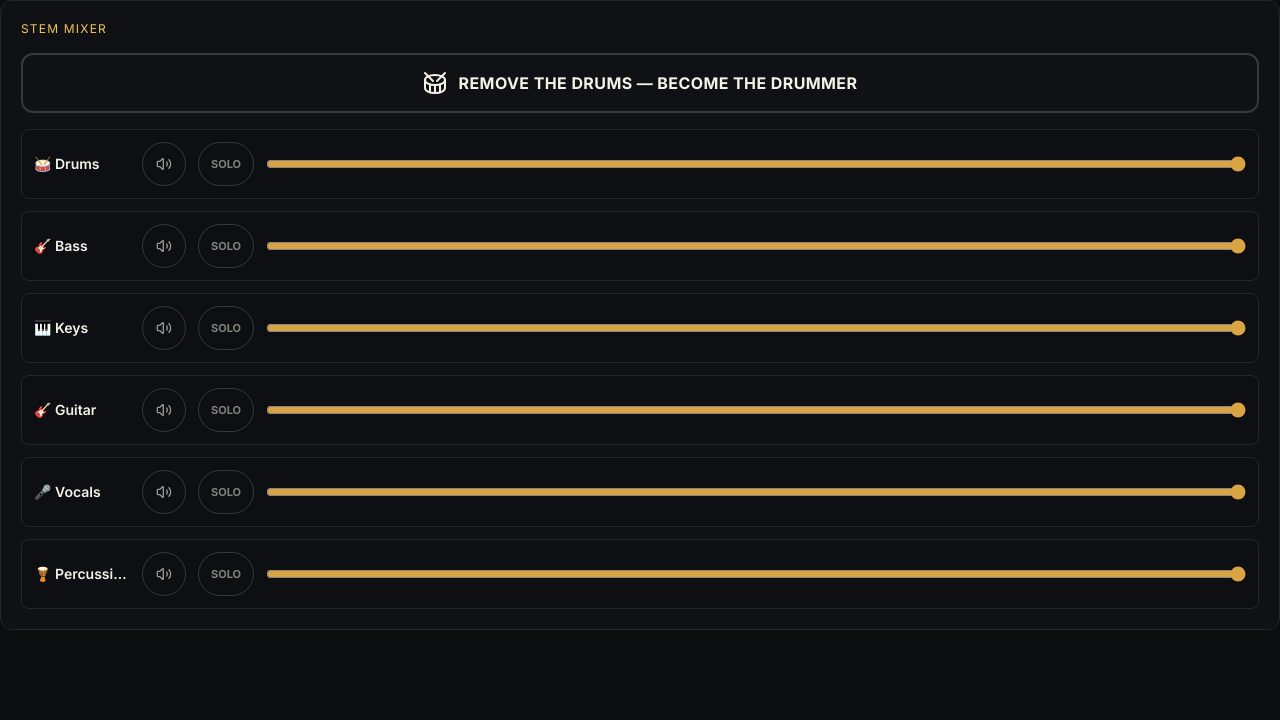
StemMixer › muting Drums via the primary action flips it to 'Drums Removed'
Click the button "Remove the Drums — Become the Drummer": (640, 83) [21,53,1259,113]
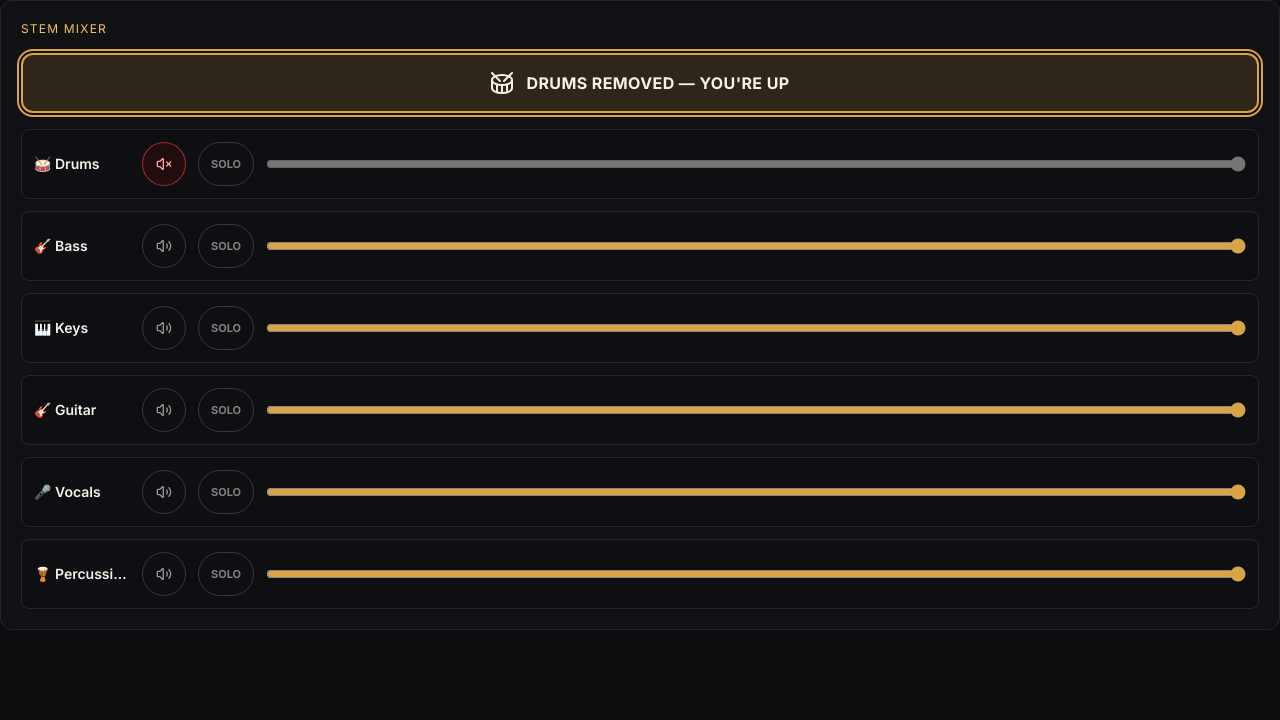
Result: the button "Drums Removed — You're Up" is shown at [21,53,1259,113]
Result: the button named "Unmute Drums" is shown at [142,142,186,186]
